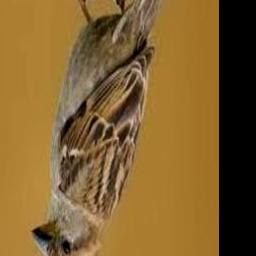Sparrow: (31, 0, 185, 256)
